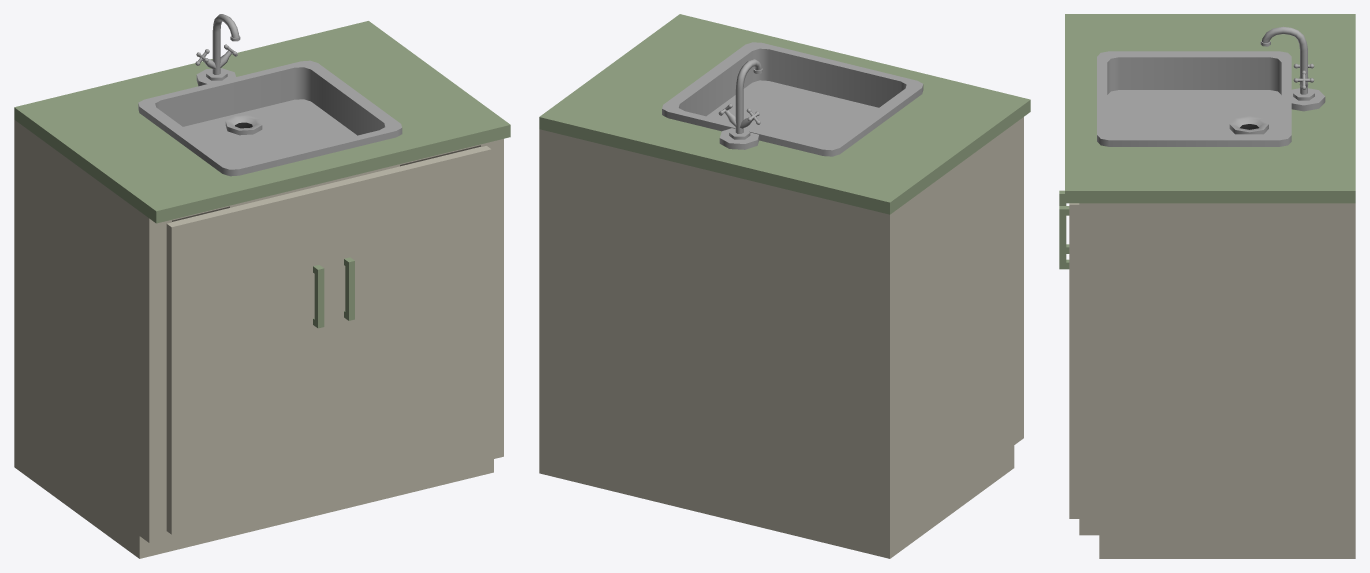
The model's file is KitchenCounterSink_01.fbx.
3 views of the same model, side by side, from view 1: azimuth 30°, elevation 25°; view 2: azimuth 150°, elevation 25°; view 3: azimuth 270°, elevation 25° (orthographic). The views are drawn at different scales.
Parts seen in each view (by area): view 1: KitchenCounterSink_01, KitchenCounterSink_01_Door_L, KitchenCounterSink_01_Door_R; view 2: KitchenCounterSink_01; view 3: KitchenCounterSink_01, KitchenCounterSink_01_Door_R.
Part boxes in pixels (x1,y1,x2,y2): KitchenCounterSink_01: (14, 14, 510, 558); KitchenCounterSink_01_Door_L: (166, 184, 331, 534); KitchenCounterSink_01_Door_R: (326, 146, 491, 495); KitchenCounterSink_01: (539, 14, 1030, 558); KitchenCounterSink_01: (1065, 14, 1355, 558); KitchenCounterSink_01_Door_R: (1059, 203, 1079, 518).
Size of the model in its own units: 1 by 1.17 by 0.7082.
